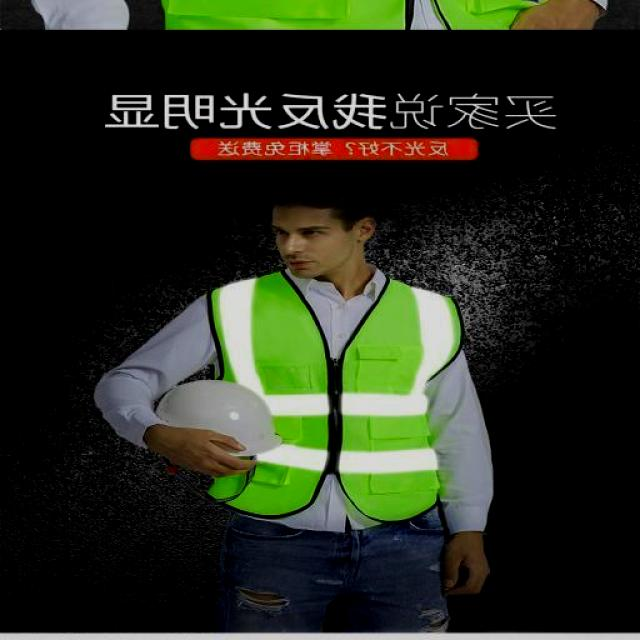face_nomask: (265, 218, 337, 276)
hand_noglove: (172, 426, 254, 484), (436, 525, 494, 604)
head_nohelmet: (265, 163, 380, 222)
person: (86, 157, 501, 640)
vest: (185, 269, 463, 532)
